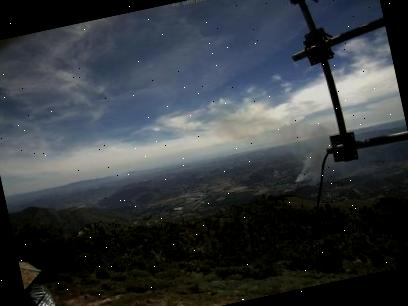smoke: (285, 125, 337, 187)
